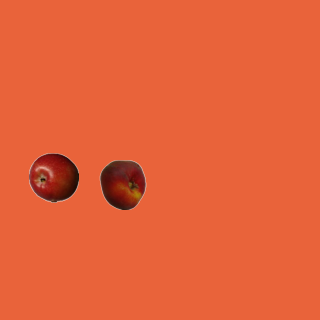Apple Braeburn: (28, 152, 78, 202)
Nectarine Flat: (97, 159, 147, 209)
